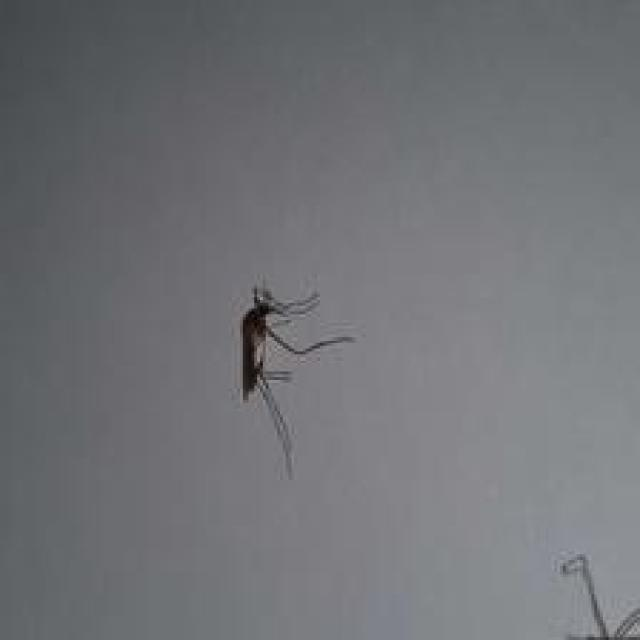Culex: (238, 276, 356, 478)
